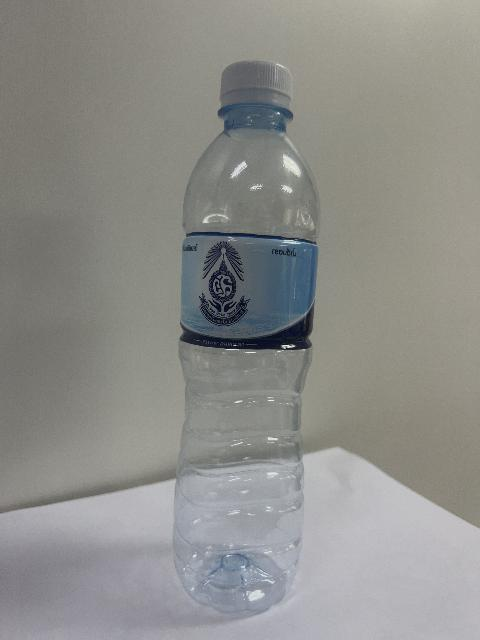bottle: (173, 61, 318, 612)
